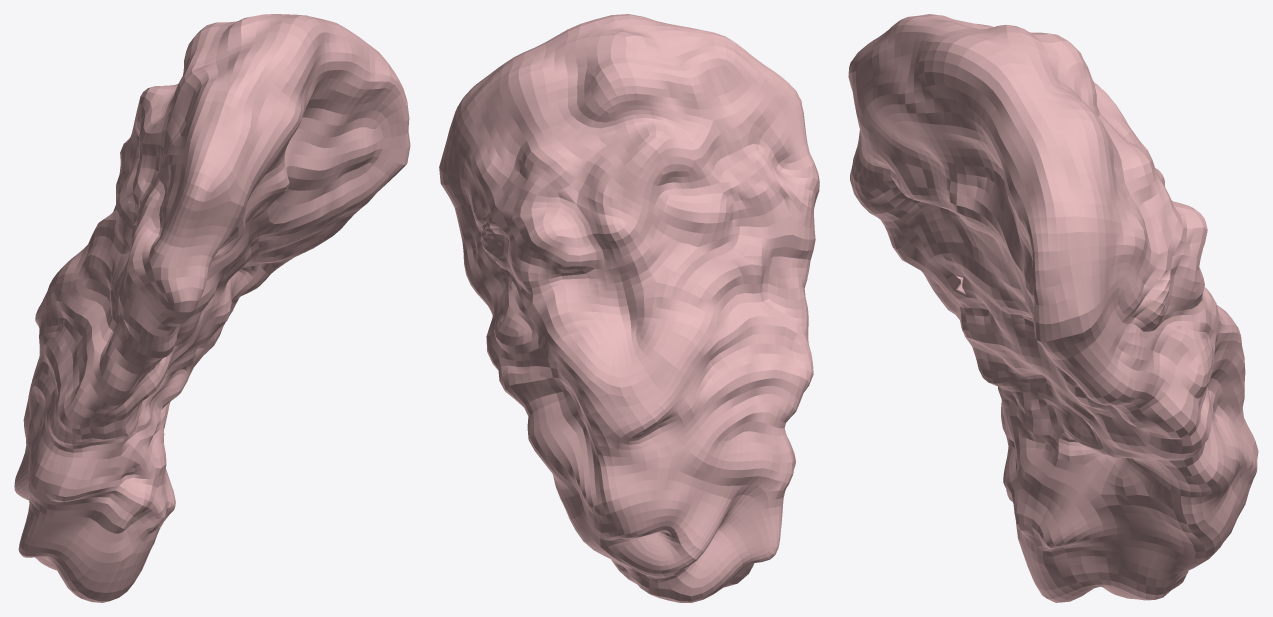
The model's file is 3d-vh-f-palatine-tonsil-r.glb.
The picture shows the model from 3 angles, left to right: view 1: azimuth 30°, elevation 25°; view 2: azimuth 150°, elevation 25°; view 3: azimuth 270°, elevation 25°; orthographic projection. The views are drawn at different scales.
Visible parts, largest first — view 1: VH_F_palatine_tonsil_R; view 2: VH_F_palatine_tonsil_R; view 3: VH_F_palatine_tonsil_R.
Part boxes in pixels (box(x1,y1,x2,y2)): VH_F_palatine_tonsil_R: box(14, 14, 410, 602); VH_F_palatine_tonsil_R: box(439, 14, 819, 602); VH_F_palatine_tonsil_R: box(848, 14, 1258, 602).
Bounding box in the file's own units: 0.0168 × 0.0239 × 0.0139.
